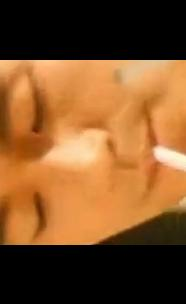Cigarette: (151, 145, 186, 182)
